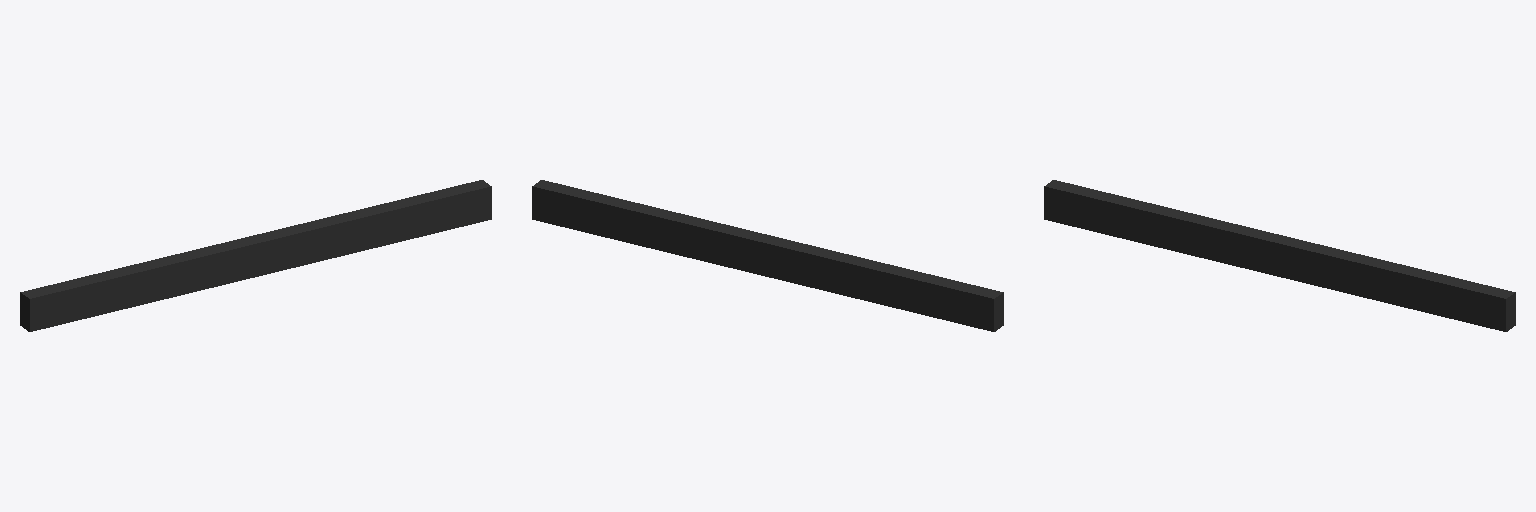
The robot description file, URDF, robot "wall":
<robot name="wall">
  <link name="baseLink">
   
    <inertial>
      <origin rpy="0 0 0" xyz="0 0 0" />
       <mass value="10" />
       <inertia ixx="0" ixy="0" ixz="0" iyy="0" iyz="0" izz="0" />
    </inertial>
    <visual>
      <origin rpy="0 0 0" xyz="0 0 0" />
      <geometry>
			  <box size="2.9 0.1 0.2" />
      </geometry>
       <material name="grey">
        <color rgba="0.24 0.24 0.24 1" />
      </material>
    </visual>
    <collision>
      <origin rpy="0 0 0" xyz="0 0 0" />
      <geometry>
	 	      <box size="2.9 0.1 0.2" />
      </geometry>
    </collision>
  </link>
</robot>

--- Render facts (derived) ---
Views: 3 orthographic renders of the robot side by side, from view 1: azimuth 30°, elevation 25°; view 2: azimuth 150°, elevation 25°; view 3: azimuth 330°, elevation 25°.
Robot: wall — 1 links, 0 joints (none); root link baseLink; default pose: every joint at zero.
Visible links, largest first — view 1: baseLink; view 2: baseLink; view 3: baseLink.
Link boxes in pixels (left/top/right/bottom): baseLink: left=20, top=180, right=491, bottom=331; baseLink: left=532, top=180, right=1003, bottom=331; baseLink: left=1044, top=180, right=1515, bottom=331.
Bounding box of the posed robot: 2.9 × 0.1 × 0.2 m (x, y, z).
Geometry: primitives only (box / cylinder / sphere), no mesh files.
